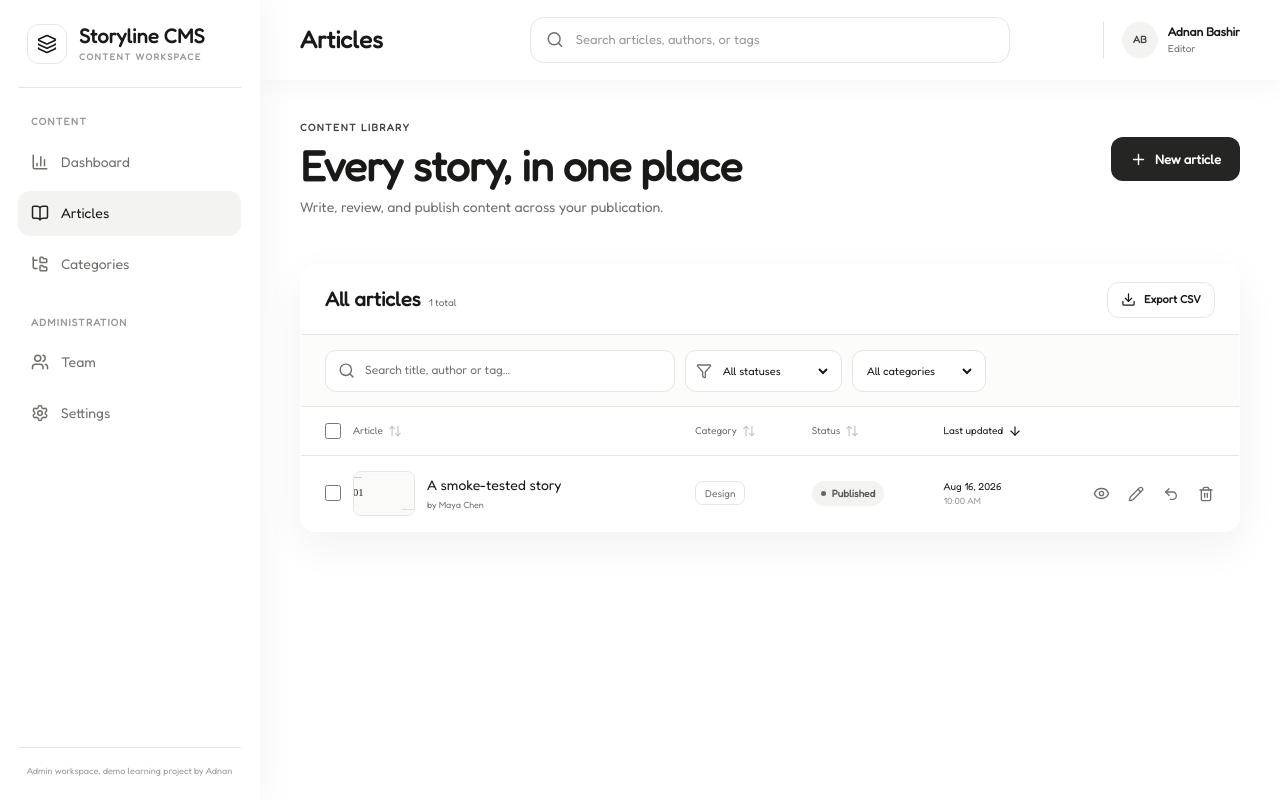
Storyline CMS smoke test › selects table rows and reveals bulk workflow actions
This screenshot has width=1280, height=800.
Expected: the link "A smoke-tested story" is shown, 427,474 -> 562,496
Step 1. Click the checkbox named "Select A smoke-tested story" → (333, 493), box 325,485 -> 341,501
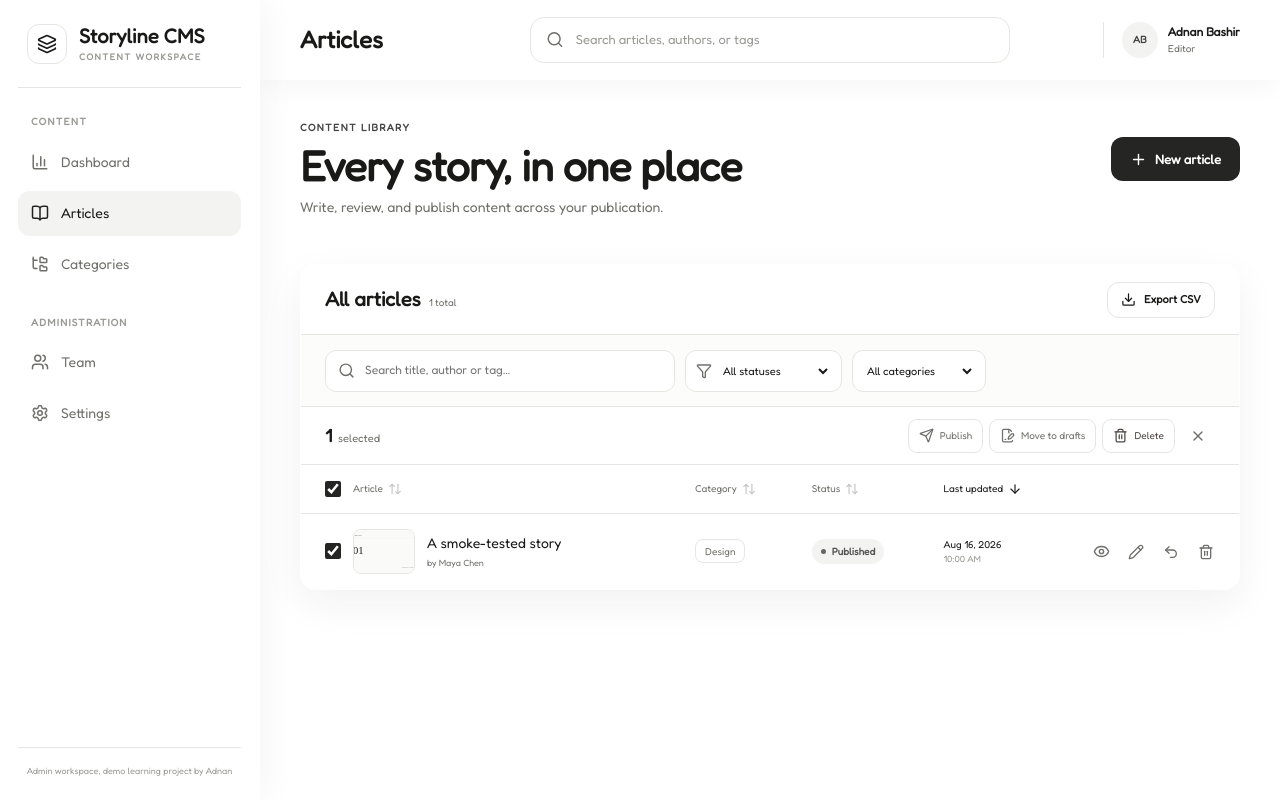
Now the text "selected" is shown, box 338,430 -> 380,446
Now the button "Publish" is shown, box 908,418 -> 983,452
Now the button "Move to drafts" is shown, box 989,418 -> 1096,452
